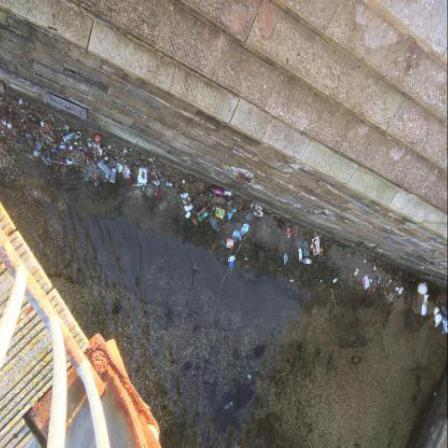Bottle: (97, 161, 112, 178), (200, 210, 214, 224), (198, 206, 210, 218), (212, 189, 226, 197), (320, 245, 326, 263), (314, 232, 325, 239), (442, 305, 448, 317), (302, 260, 314, 266)
Bottle cap: (61, 161, 65, 165), (93, 155, 96, 159), (2, 131, 5, 135), (87, 158, 90, 161), (57, 149, 59, 153), (104, 161, 106, 164), (84, 152, 86, 154)
Can: (225, 402, 235, 410), (302, 348, 306, 361), (353, 359, 359, 365), (420, 392, 424, 400)
Cup: (399, 288, 405, 296)
Lid: (110, 181, 116, 185), (156, 193, 158, 197)
Other plastic: (42, 138, 48, 150), (97, 136, 103, 143), (78, 133, 83, 139), (426, 295, 431, 299)
Plastic bag - wrapper: (150, 169, 162, 188), (211, 218, 222, 234), (227, 208, 238, 223), (216, 208, 226, 222), (364, 276, 372, 292), (443, 314, 448, 336), (233, 232, 242, 244), (286, 229, 295, 240), (228, 239, 236, 250)
Straw: (54, 162, 72, 167), (351, 256, 359, 262), (264, 210, 274, 214), (272, 216, 283, 218)
Unlabeled litter: (183, 193, 195, 213), (140, 169, 150, 185), (65, 132, 77, 144), (242, 223, 252, 237), (96, 144, 106, 158), (419, 284, 429, 296), (255, 206, 265, 218), (436, 315, 444, 329), (124, 165, 132, 179), (111, 168, 119, 182), (305, 243, 311, 259), (423, 305, 429, 317), (329, 359, 335, 371), (300, 249, 304, 263), (34, 151, 42, 158), (436, 307, 442, 316), (193, 315, 199, 324), (355, 270, 361, 278), (229, 257, 237, 263), (225, 192, 233, 198), (119, 167, 125, 175), (36, 143, 42, 151), (286, 255, 290, 266), (138, 184, 149, 188), (425, 299, 430, 307), (390, 294, 395, 302), (169, 182, 175, 188), (380, 278, 385, 284), (187, 214, 192, 220), (20, 99, 25, 105), (138, 162, 144, 167), (68, 161, 74, 166), (2, 121, 7, 127), (60, 146, 67, 150), (9, 124, 13, 131), (390, 280, 395, 285), (334, 279, 339, 284), (231, 262, 235, 268), (252, 205, 256, 211), (71, 146, 75, 151), (365, 261, 369, 265), (211, 193, 213, 201), (106, 158, 110, 162), (118, 163, 122, 167), (80, 142, 84, 146), (375, 267, 378, 272), (183, 181, 186, 185), (76, 143, 80, 146), (372, 280, 374, 284), (292, 281, 296, 283), (246, 259, 249, 261)
